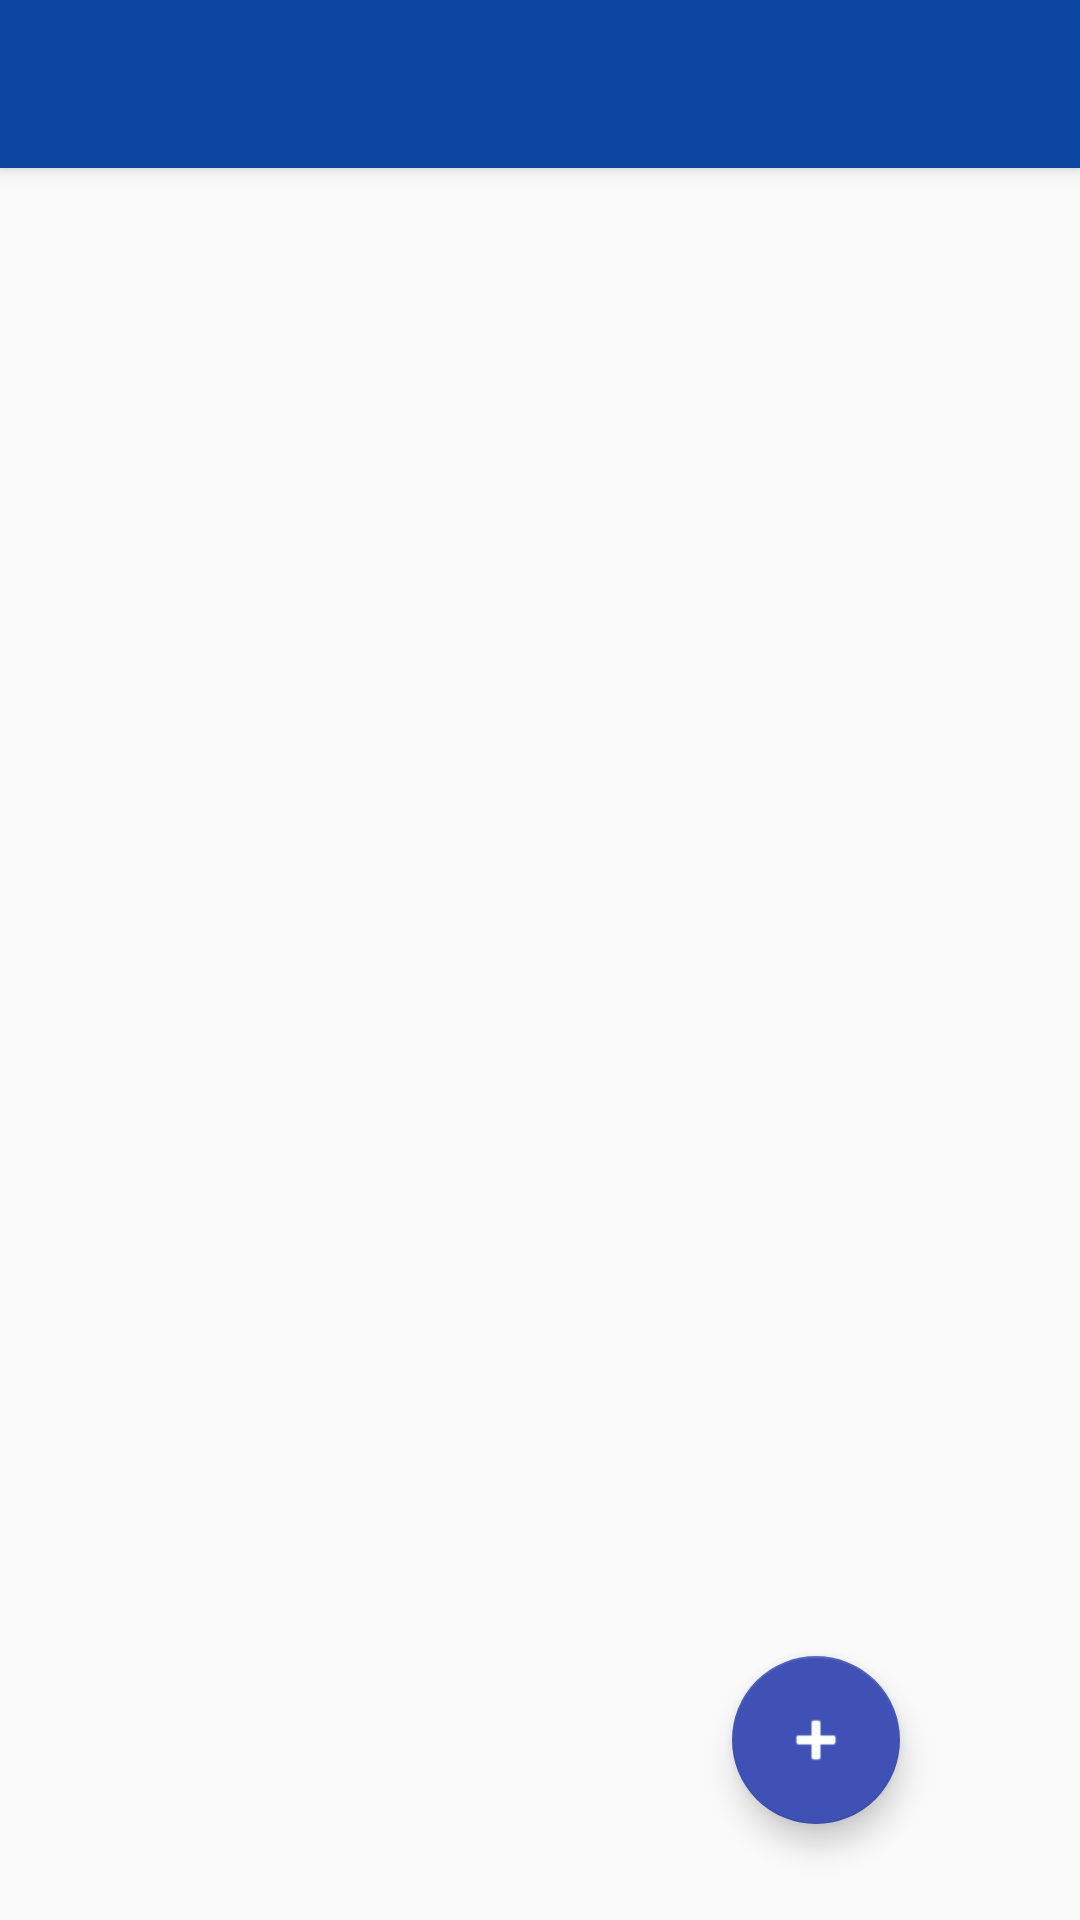

Locate icon controls on the screen. Image size 1080w x 1920h, boxes as rect(x1, y1, x2, y2).
add: rect(732, 1656, 900, 1824)
